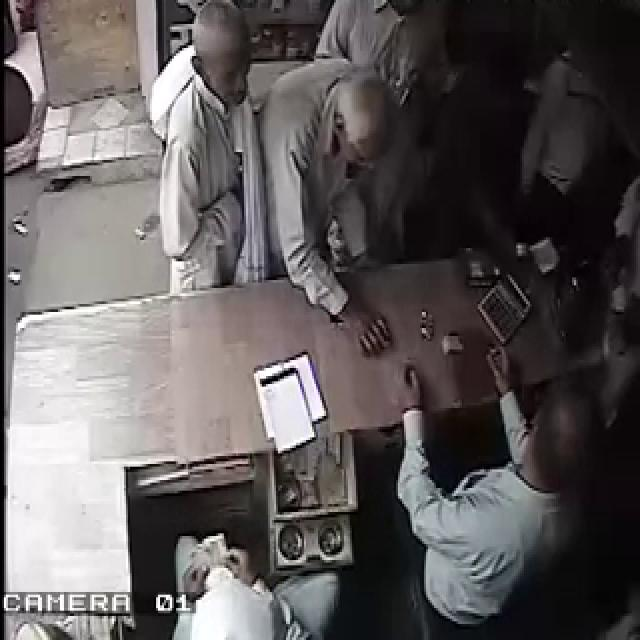shoplifting: (147, 0, 520, 627)
